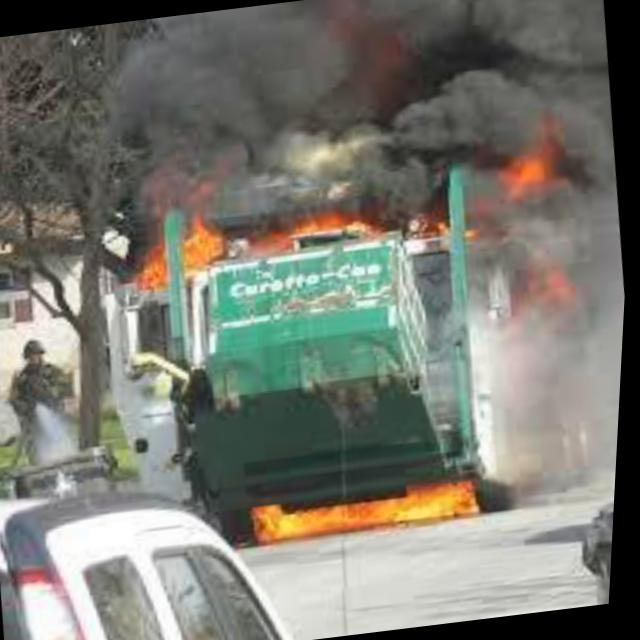fire: (469, 104, 620, 332), (233, 449, 502, 556), (271, 162, 498, 280), (127, 200, 241, 304)
